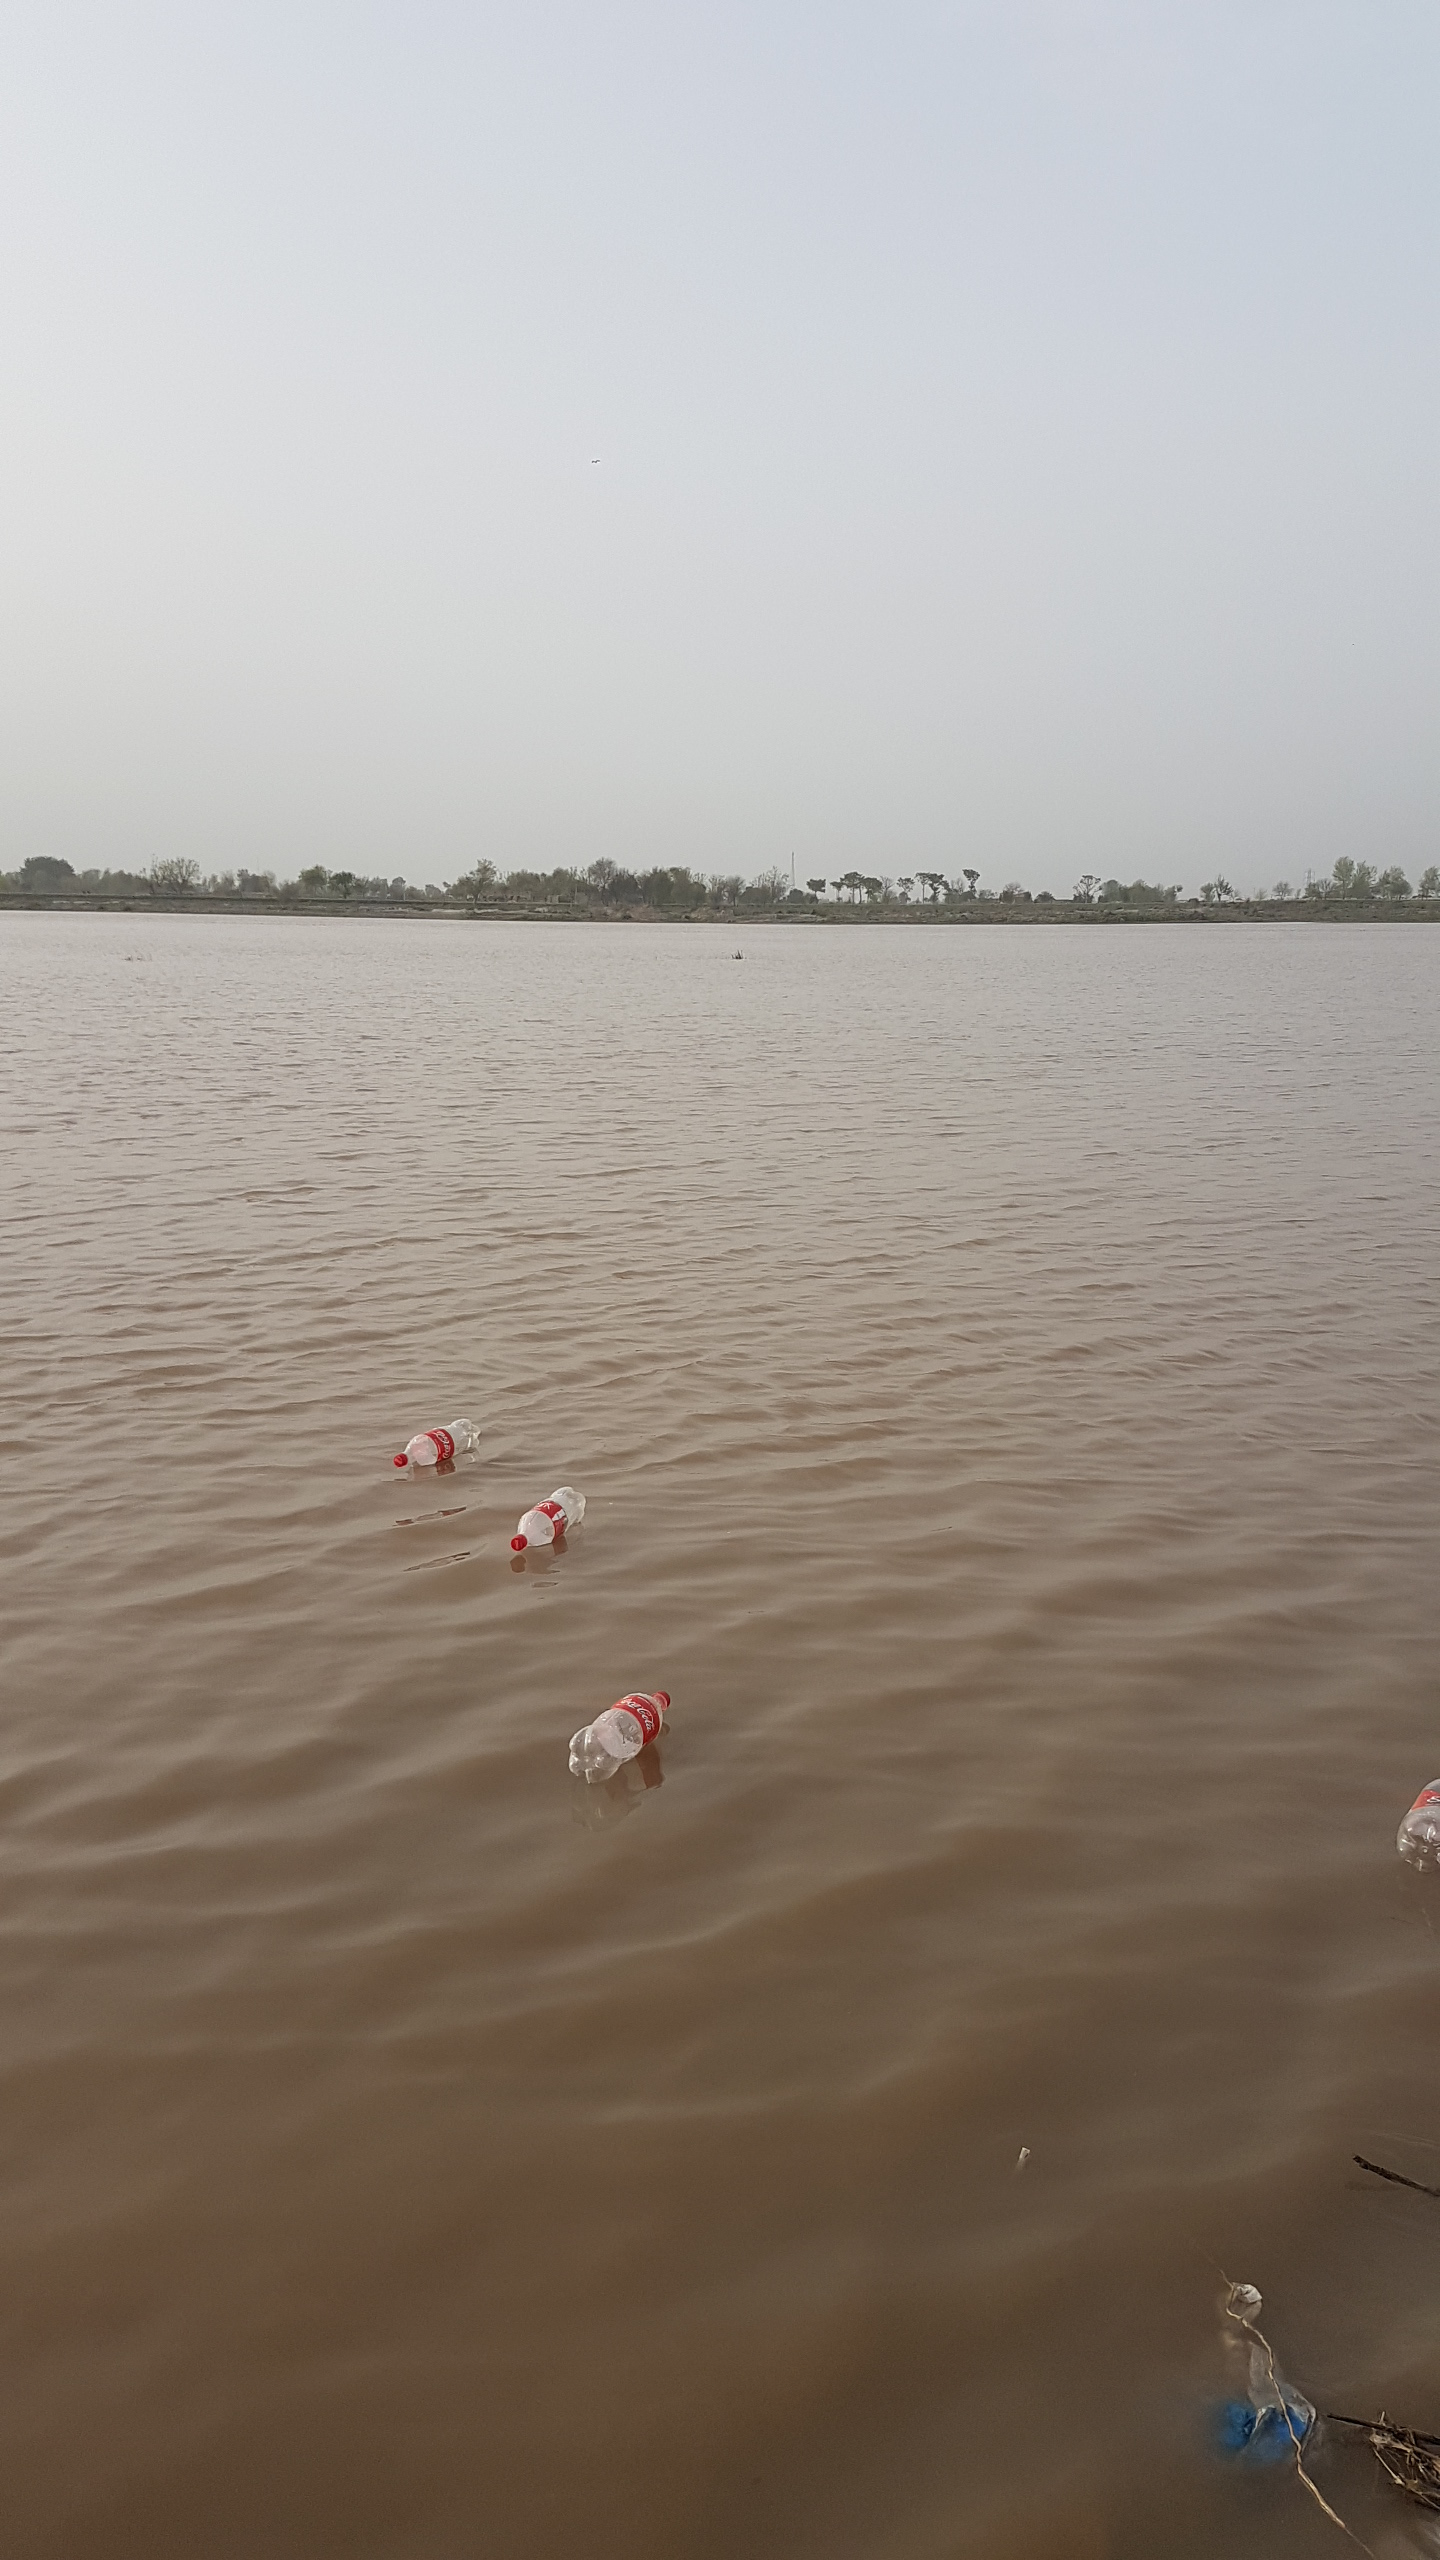Plastic Bottle: (570, 1691, 668, 1783), (512, 1486, 585, 1551), (394, 1417, 482, 1466), (1398, 1778, 1440, 1873)
